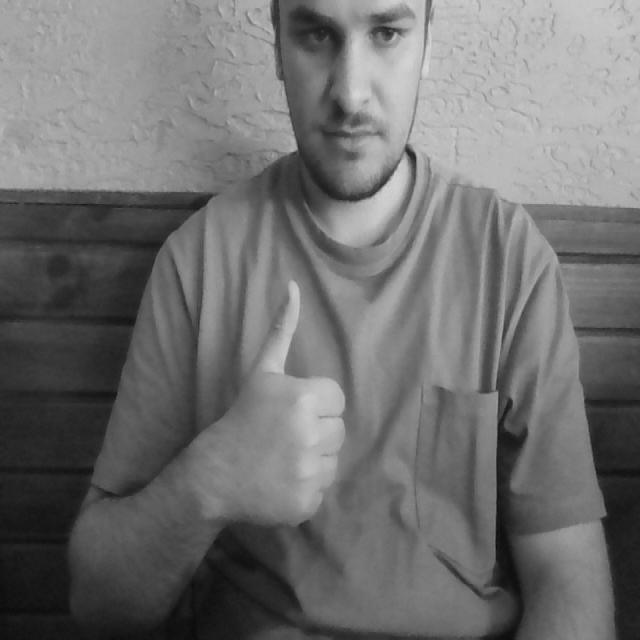Tamam: (207, 272, 351, 538)
